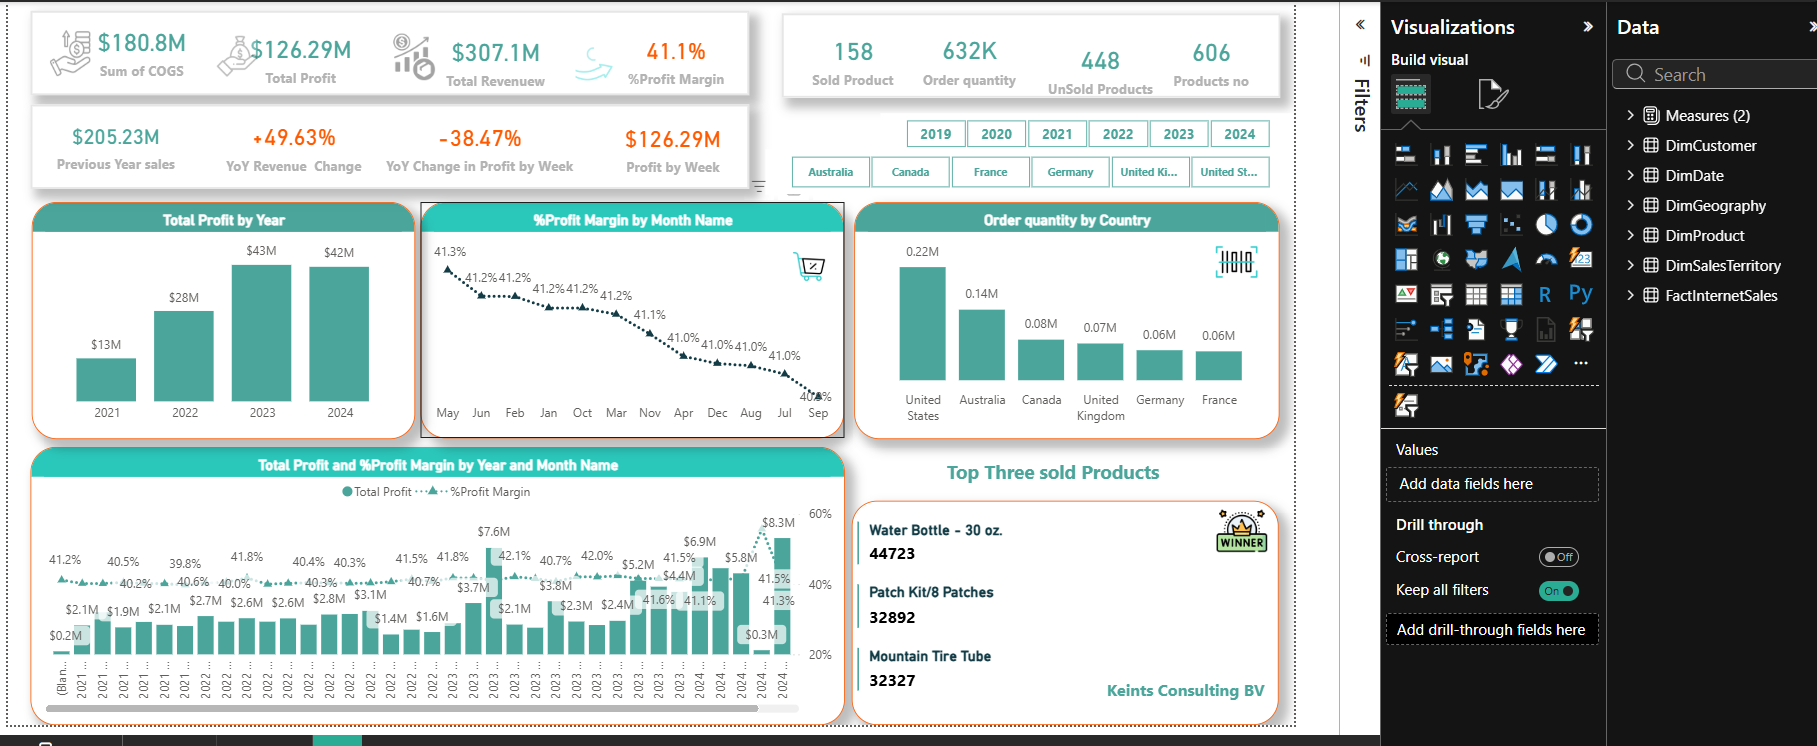

The dashboard page shown, as its layout file describes it:
{"tool":"powerbi","page":{"name":"Page 1","canvas":[1280,720],"ordinal":0},"visuals":[{"type":"shape","box":[769.9,11.3,496.3,84.2],"z":0},{"type":"shape","box":[22.9,9.3,715.3,84.2],"z":1000},{"type":"card","title":"Profit Margin Percentage","fields":{"Values":["Measures (2).%Profit Margin"]},"box":[590.5,0,148.6,113.9],"z":2000},{"type":"card","title":"Sum of Order Quantity","fields":{"Values":["Measures (2).Order quantity"]},"box":[882.7,0,147.6,112.9],"z":3000},{"type":"lineClusteredColumnComboChart","fields":{"Category":["DimDate.Date.Variation.Date Hierarchy.Year","DimDate.Month Name"],"Y":["Measures (2).Total Profit"],"Y2":["Measures (2).%Profit Margin"]},"box":[22.3,443,810.2,276.8],"z":4000},{"type":"card","title":"Unsold Products","fields":{"Values":["Measures (2).#UnSold Products"]},"box":[1023.3,13.5,127.1,104.2],"z":5000},{"type":"card","title":"No of Sold Products","fields":{"Values":["Measures (2).#Sold Product"]},"box":[766.8,0,149.6,114.9],"z":6000},{"type":"card","title":"No of Products","fields":{"Values":["Measures (2).#Products"]},"box":[1130.9,1,133.8,113.8],"z":7000},{"type":"card","title":"Sum of COGS","fields":{"Values":["Measures (2).Sum of COGS"]},"box":[75.4,12.3,114.9,71.3],"z":8000},{"type":"card","title":"Total Profit","fields":{"Values":["Measures (2).Total Profit"]},"box":[218,0,147.6,110],"z":9000},{"type":"card","title":"Total Revenue","fields":{"Values":["Measures (2).Total Revenuew"]},"box":[411.1,1,147.6,113.9],"z":10000},{"type":"actionButton","box":[40.7,27.1,41.6,47.6],"z":11000},{"type":"actionButton","box":[207.2,34.1,39.6,40.6],"z":12000},{"type":"actionButton","box":[379.6,30.1,49.5,49.5],"z":13000},{"type":"actionButton","box":[564.8,30.1,49.5,49.5],"z":14000},{"type":"lineChart","fields":{"Category":["DimDate.Month Name"],"Y":["Measures (2).%Profit Margin"]},"box":[410.7,198.6,421.8,235.5],"z":15000},{"type":"slicer","fields":{"Values":["DimDate.Year"]},"box":[868.1,111,411.1,37.3],"z":16000},{"type":"actionButton","box":[766.7,234.4,60.3,59.1],"z":17000},{"type":"lineClusteredColumnComboChart","fields":{"Y":["Measures (2).Order quantity"],"Category":["DimGeography.Country"]},"box":[842.1,199.1,423,235.8],"z":18000},{"type":"actionButton","box":[1197.8,233.8,49.5,49.5],"z":19000},{"type":"columnChart","fields":{"Category":["DimDate.Date.Variation.Date Hierarchy.Year"],"Y":["Measures (2).Total Profit"]},"box":[23.8,199.1,381.4,235.8],"z":20000},{"type":"shape","box":[22.9,101.4,715.3,84.2],"z":21000},{"type":"card","fields":{"Values":["Measures (2).Previous Year sales"]},"box":[41.2,111.9,132.9,61.2],"z":22000},{"type":"card","fields":{"Values":["Measures (2).YoY Change"]},"box":[207.5,100.5,153.9,84.1],"z":23000},{"type":"card","fields":{"Values":["Measures (2).YoY Change in Profit by Week"]},"box":[364.3,100.5,210.3,85.1],"z":24000},{"type":"card","fields":{"Values":["Measures (2).Profit by Week"]},"box":[557.4,101.4,209.4,84.1],"z":25000},{"type":"slicer","fields":{"Values":["DimGeography.Country"]},"box":[753.3,146.2,525.6,44.6],"z":26000},{"type":"multiRowCard","fields":{"Values":["DimProduct.EnglishProductName","Measures (2).Order quantity"]},"box":[839.2,496.6,425.2,223.2],"z":27000},{"type":"textbox","box":[1087.9,668.2,169.2,32.5],"z":28000},{"type":"textbox","box":[929.6,450.8,247.7,45.8],"z":29000},{"type":"image","box":[1197.4,496.6,60.3,60.3],"z":30000}]}

Visuals, with their boxes on the page's 1280x720 design canvas (x1, y1, x2, y2). These are canvas units, not pixel positions in the 1817x746 screenshot, which may show the page scaled, cropped or inside an application window:
shape: [x1=770, y1=11, x2=1266, y2=96]
shape: [x1=23, y1=9, x2=738, y2=94]
"Profit Margin Percentage" card: [x1=590, y1=0, x2=739, y2=114]
"Sum of Order Quantity" card: [x1=883, y1=0, x2=1030, y2=113]
lineClusteredColumnComboChart - DimDate.Date.Variation.Date Hierarchy.Year x DimDate.Month Name: [x1=22, y1=443, x2=832, y2=720]
"Unsold Products" card: [x1=1023, y1=14, x2=1150, y2=118]
"No of Sold Products" card: [x1=767, y1=0, x2=916, y2=115]
"No of Products" card: [x1=1131, y1=1, x2=1265, y2=115]
"Sum of COGS" card: [x1=75, y1=12, x2=190, y2=84]
"Total Profit" card: [x1=218, y1=0, x2=366, y2=110]
"Total Revenue" card: [x1=411, y1=1, x2=559, y2=115]
actionButton: [x1=41, y1=27, x2=82, y2=75]
actionButton: [x1=207, y1=34, x2=247, y2=75]
actionButton: [x1=380, y1=30, x2=429, y2=80]
actionButton: [x1=565, y1=30, x2=614, y2=80]
lineChart - DimDate.Month Name x Measures (2).%Profit Margin: [x1=411, y1=199, x2=832, y2=434]
slicer - DimDate.Year: [x1=868, y1=111, x2=1279, y2=148]
actionButton: [x1=767, y1=234, x2=827, y2=294]
lineClusteredColumnComboChart - Measures (2).Order quantity x DimGeography.Country: [x1=842, y1=199, x2=1265, y2=435]
actionButton: [x1=1198, y1=234, x2=1247, y2=283]
columnChart - DimDate.Date.Variation.Date Hierarchy.Year x Measures (2).Total Profit: [x1=24, y1=199, x2=405, y2=435]
shape: [x1=23, y1=101, x2=738, y2=186]
card - Measures (2).Previous Year sales: [x1=41, y1=112, x2=174, y2=173]
card - Measures (2).YoY Change: [x1=208, y1=100, x2=361, y2=185]
card - Measures (2).YoY Change in Profit by Week: [x1=364, y1=100, x2=575, y2=186]
card - Measures (2).Profit by Week: [x1=557, y1=101, x2=767, y2=186]
slicer - DimGeography.Country: [x1=753, y1=146, x2=1279, y2=191]
multiRowCard - DimProduct.EnglishProductName x Measures (2).Order quantity: [x1=839, y1=497, x2=1264, y2=720]
textbox: [x1=1088, y1=668, x2=1257, y2=701]
textbox: [x1=930, y1=451, x2=1177, y2=497]
image: [x1=1197, y1=497, x2=1258, y2=557]
